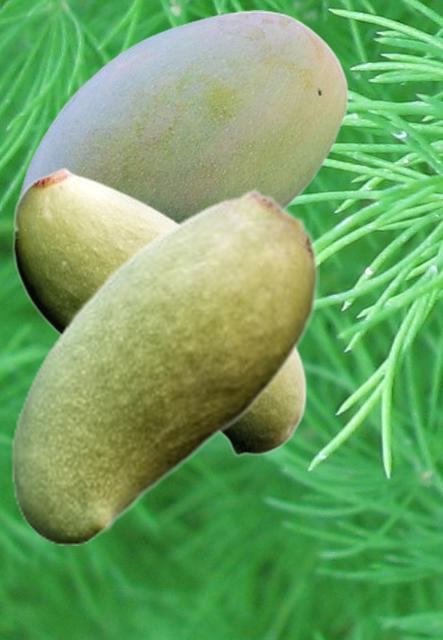green_mango: (10, 188, 318, 544), (12, 166, 306, 456), (18, 10, 348, 220)
